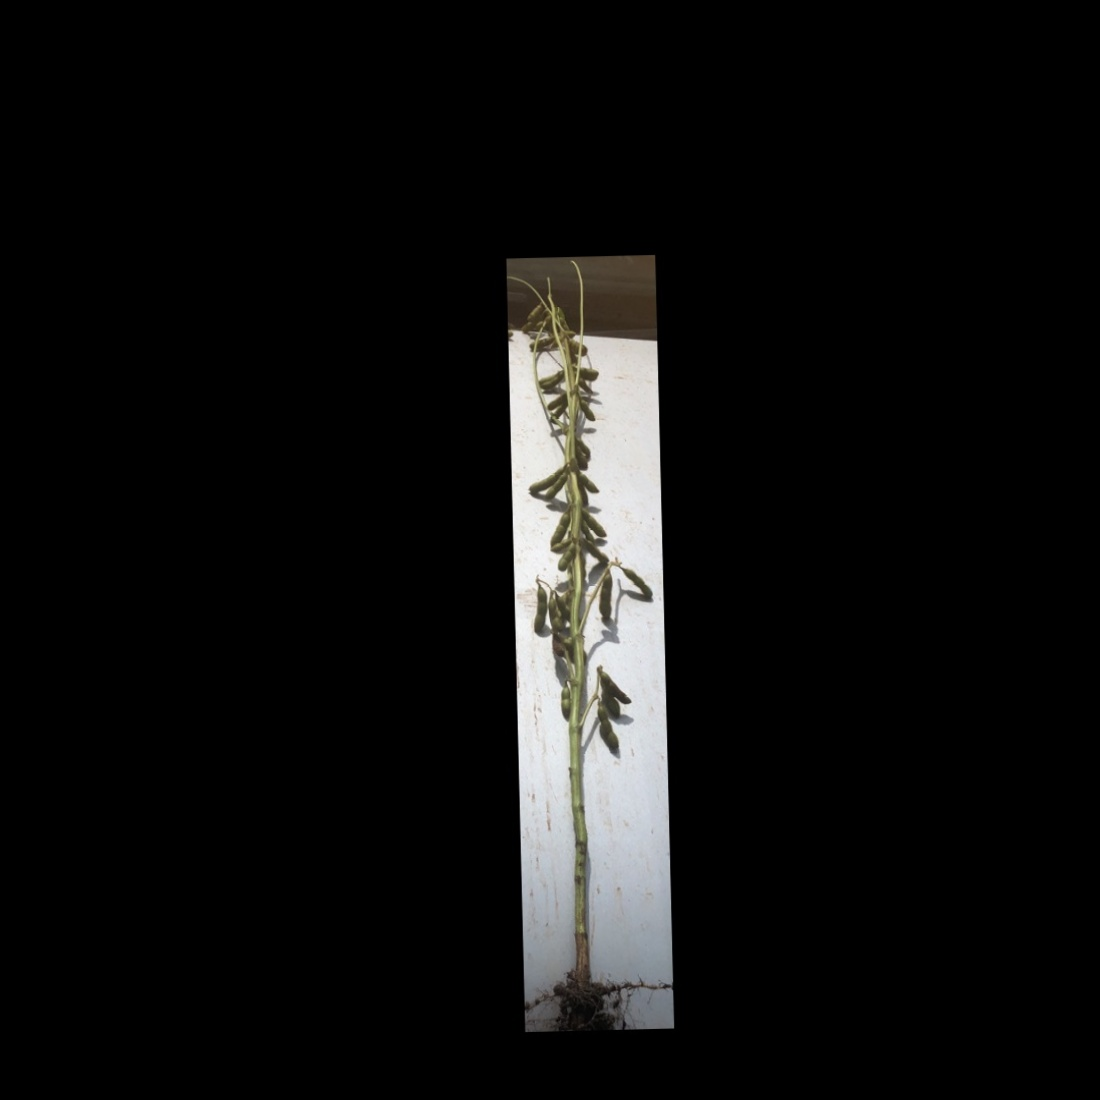pod: (617, 565, 653, 600), (598, 701, 618, 754), (528, 586, 549, 636), (597, 568, 613, 618), (581, 540, 609, 565), (555, 544, 576, 574), (576, 397, 597, 424), (558, 683, 572, 719), (574, 437, 593, 456), (524, 301, 541, 321), (580, 520, 593, 543)
soy: (507, 268, 664, 1008)
